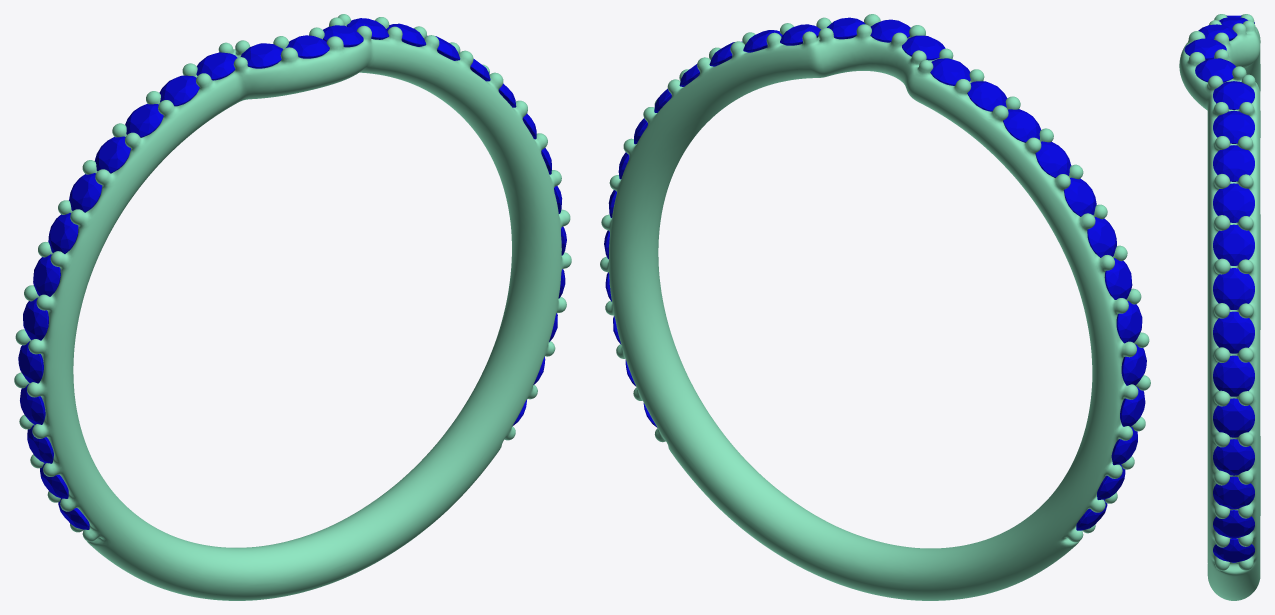
3 renders of one model, left to right at view 1: azimuth 30°, elevation 25°; view 2: azimuth 150°, elevation 25°; view 3: azimuth 270°, elevation 25°, orthographic. The views are drawn at different scales.
Parts seen in each view (by area): view 1: Metal03, Diamond_Band.025, Diamond_Band.024, Diamond_Band.023, Diamond_Band.015, Diamond_Band.026, Diamond_Band.022, Diamond_Band.027, Diamond_Band.028, Diamond_Band.021, Diamond_Band.020, Diamond_Band; view 2: Metal03, Diamond_Band.025, Diamond_Band.024, Diamond_Band.015, Diamond_Band.023, Diamond_Band.026, Diamond_Band.022, Diamond_Band.027, Diamond_Band.021, Diamond_Band.020; view 3: Metal03, Diamond_Band.007, Diamond_Band.006, Diamond_Band.005, Diamond_Band.008, Diamond_Band.004, Diamond_Band.009, Diamond_Band.014, Diamond_Band.010, Diamond_Band.003, Diamond_Band.011, Diamond_Band.002 (+6 smaller).
Part boxes in pixels (x1,y1,x2,y2): Metal03: (14, 14, 571, 600); Diamond_Band.025: (95, 136, 130, 173); Diamond_Band.024: (69, 173, 102, 212); Diamond_Band.023: (48, 213, 78, 253); Diamond_Band.015: (125, 104, 163, 137); Diamond_Band.026: (159, 75, 199, 106); Diamond_Band.022: (33, 254, 60, 296); Diamond_Band.027: (196, 52, 237, 80); Diamond_Band.028: (240, 43, 283, 68); Diamond_Band.021: (23, 297, 48, 340); Diamond_Band.020: (18, 341, 43, 383); Diamond_Band: (286, 35, 329, 58); Metal03: (600, 14, 1150, 600); Diamond_Band.025: (1035, 141, 1071, 177); Diamond_Band.024: (1063, 177, 1096, 216); Diamond_Band.015: (1003, 109, 1040, 142); Diamond_Band.023: (1087, 217, 1116, 257); Diamond_Band.026: (967, 81, 1007, 111); Diamond_Band.022: (1104, 258, 1132, 299); Diamond_Band.027: (930, 58, 970, 85); Diamond_Band.021: (1116, 301, 1142, 343); Diamond_Band.020: (1121, 344, 1146, 385); Metal03: (1179, 14, 1260, 600); Diamond_Band.007: (1213, 311, 1254, 353); Diamond_Band.006: (1213, 268, 1254, 309); Diamond_Band.005: (1213, 224, 1254, 265); Diamond_Band.008: (1213, 355, 1254, 396); Diamond_Band.004: (1213, 183, 1254, 222); Diamond_Band.009: (1213, 398, 1254, 437); Diamond_Band.014: (1213, 145, 1254, 181); Diamond_Band.010: (1213, 439, 1254, 475); Diamond_Band.003: (1213, 110, 1254, 143); Diamond_Band.011: (1213, 476, 1254, 509); Diamond_Band.002: (1213, 81, 1254, 109).
Size of the model in its own units: 21.06 by 20.91 by 2.89.
